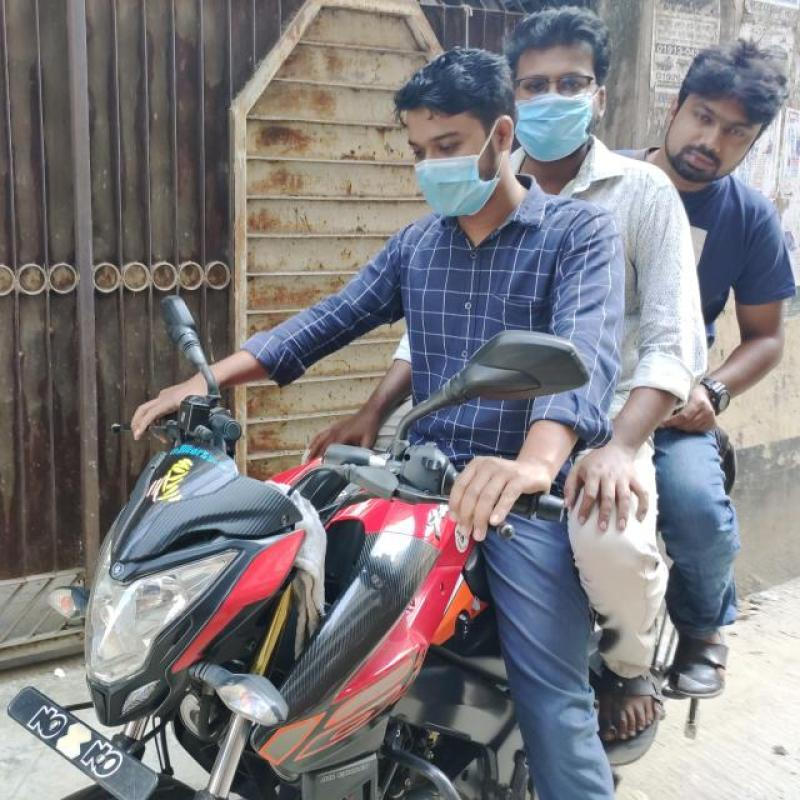nohelmet: (384, 44, 518, 214), (669, 34, 793, 200), (512, 5, 626, 170)
